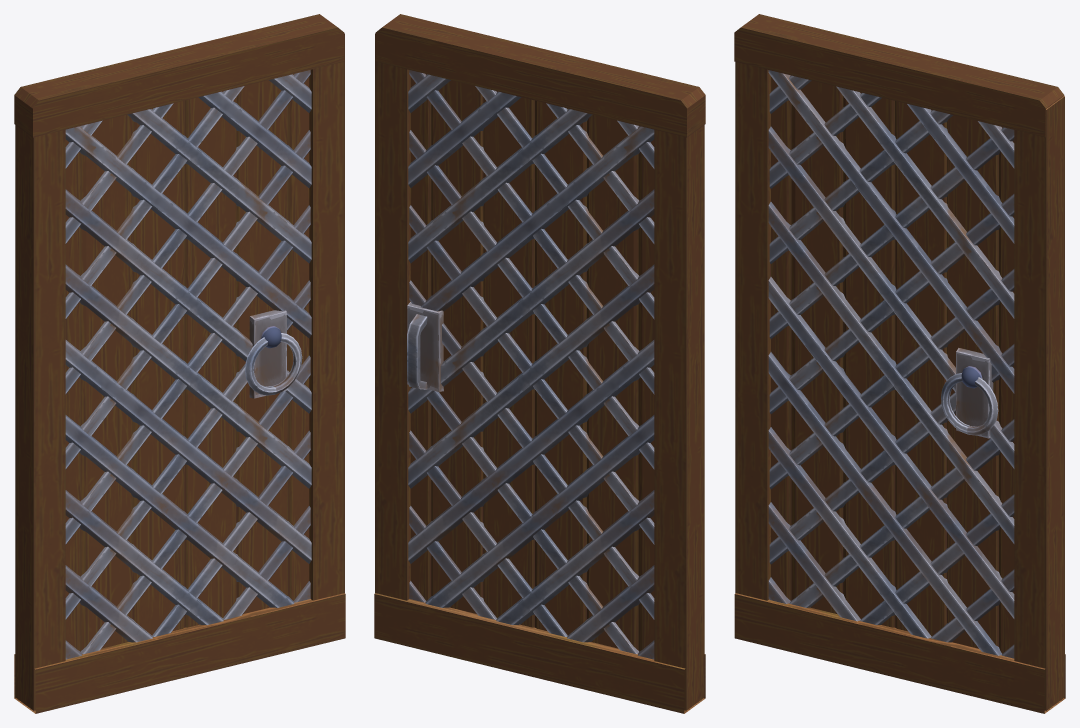
The model's file is Door_4_Flat.obj.
3 renders of one model, left to right at view 1: azimuth 30°, elevation 25°; view 2: azimuth 150°, elevation 25°; view 3: azimuth 330°, elevation 25°, orthographic.
Visible parts, largest first — view 1: Door_4_Flat; view 2: Door_4_Flat; view 3: Door_4_Flat.
Part boxes in pixels (left/top/right/bottom): Door_4_Flat: left=14, top=14, right=345, bottom=713; Door_4_Flat: left=374, top=14, right=705, bottom=713; Door_4_Flat: left=734, top=14, right=1065, bottom=713.
Size of the model in its own units: 1.12 by 2.09 by 0.2093.
